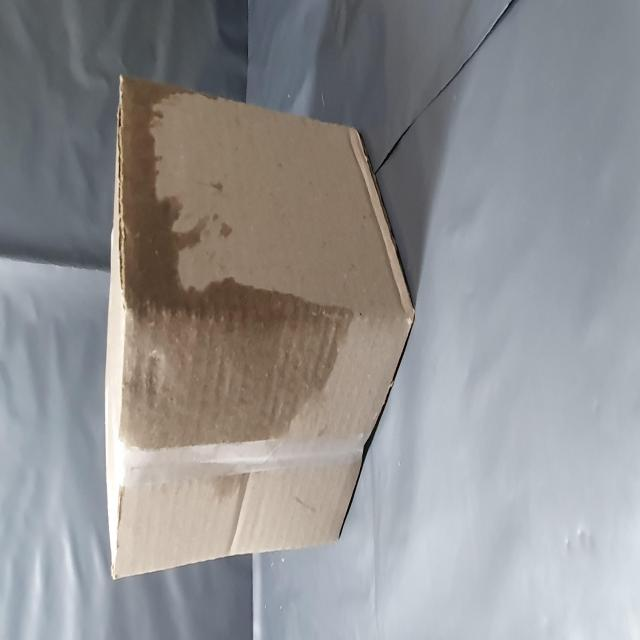wet: (113, 210, 310, 611)
